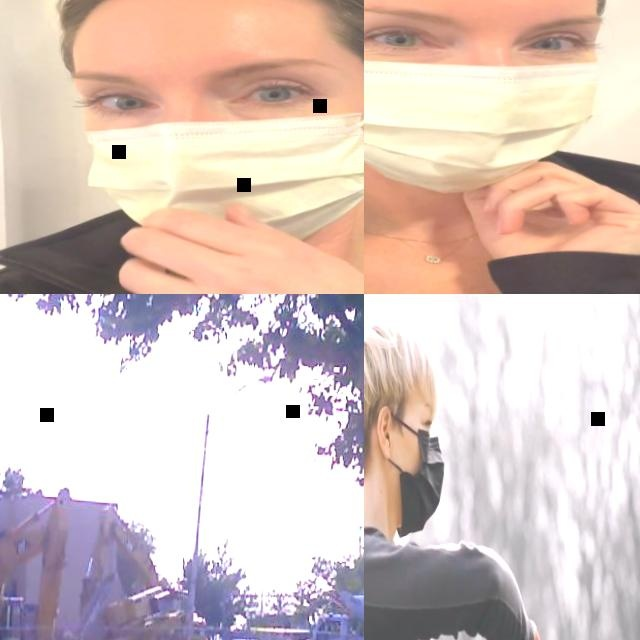Mask: (75, 66, 364, 250), (364, 7, 595, 191), (395, 428, 445, 536)
NO-Hardhat: (67, 0, 364, 44), (364, 317, 436, 407)
NO-Safety Vest: (364, 175, 640, 294)
Person: (0, 0, 364, 294), (364, 0, 640, 294), (364, 313, 553, 640)
machinery: (76, 501, 213, 640), (0, 482, 74, 640), (287, 590, 364, 640)
